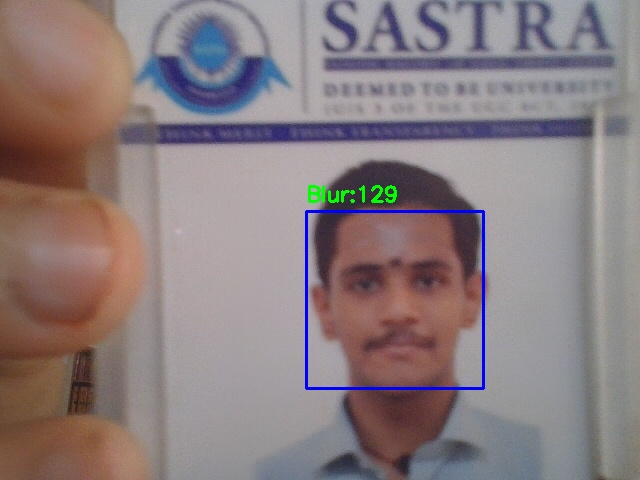fake: (306, 211, 483, 388)
